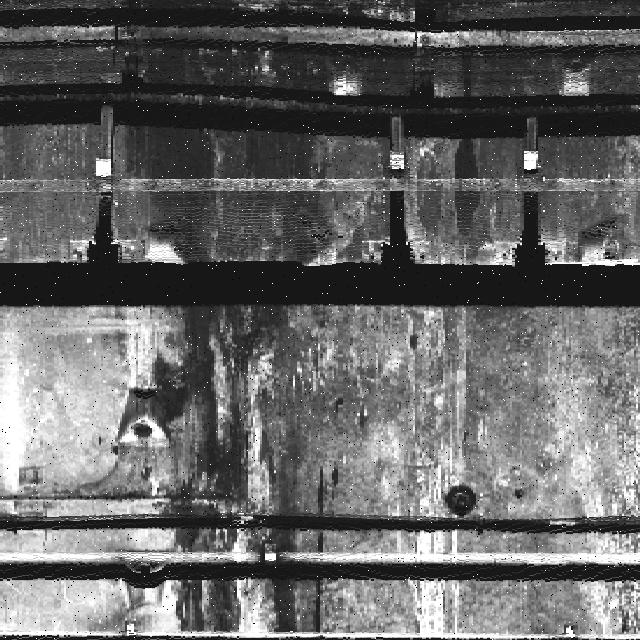leakage: (137, 309, 331, 636), (123, 120, 346, 270), (450, 137, 491, 251)
